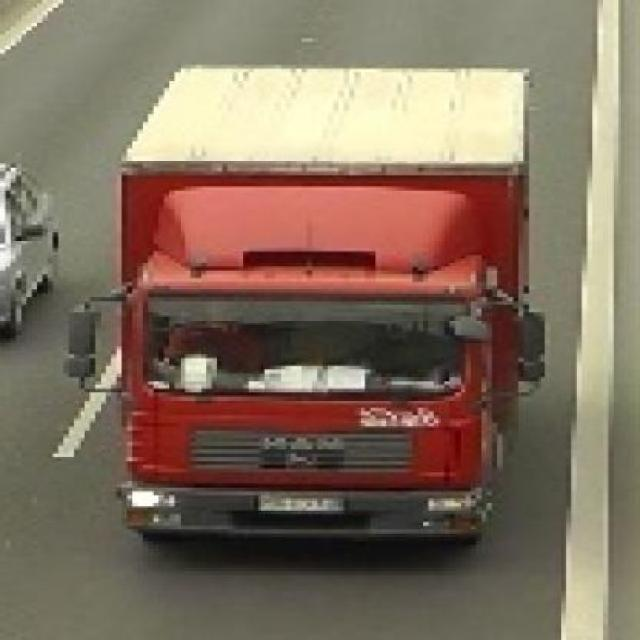truck: (64, 62, 546, 557)
